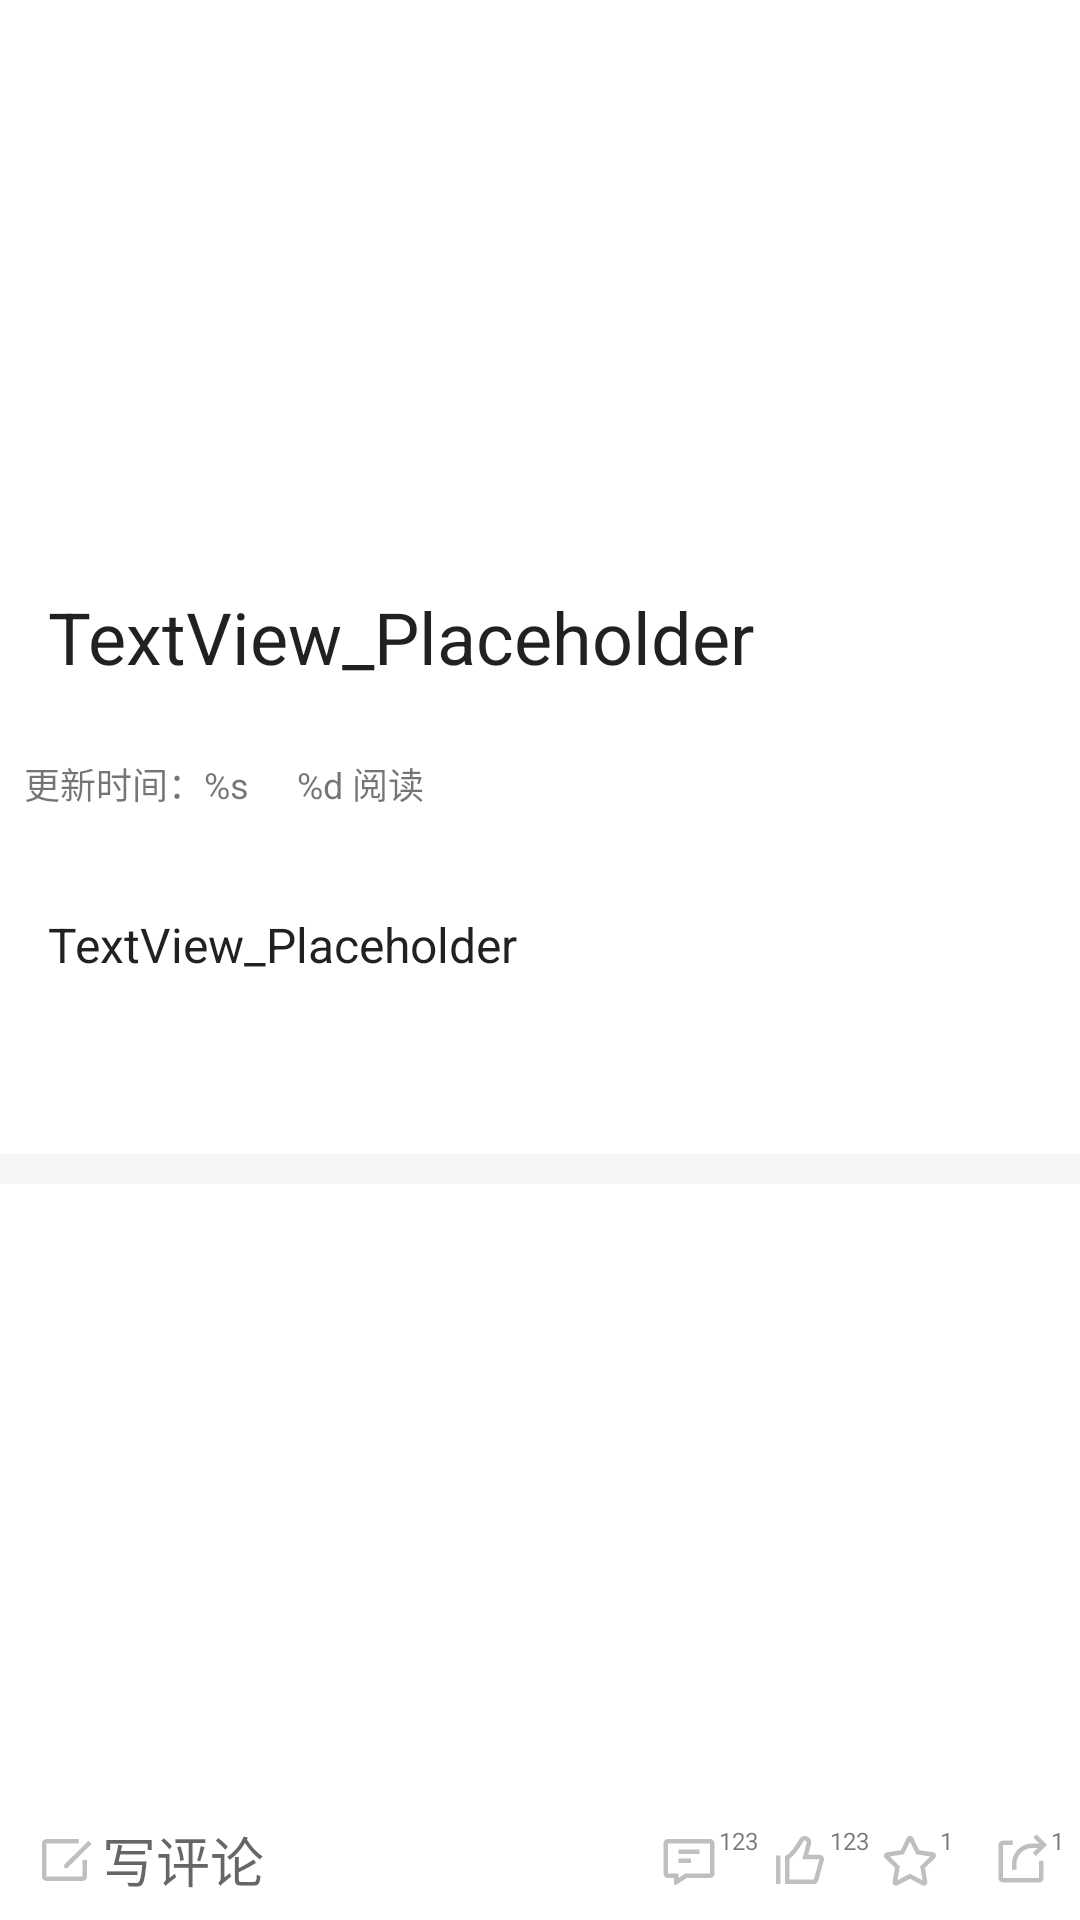

Locate icon controls on the screen. Image size 1080 × 1920, boxes as (x1, y1, x2, y2).
news collection: (884, 1834, 946, 1886)
news comment: (663, 1834, 725, 1885)
news like: (776, 1834, 836, 1884)
news share: (998, 1834, 1057, 1883)
